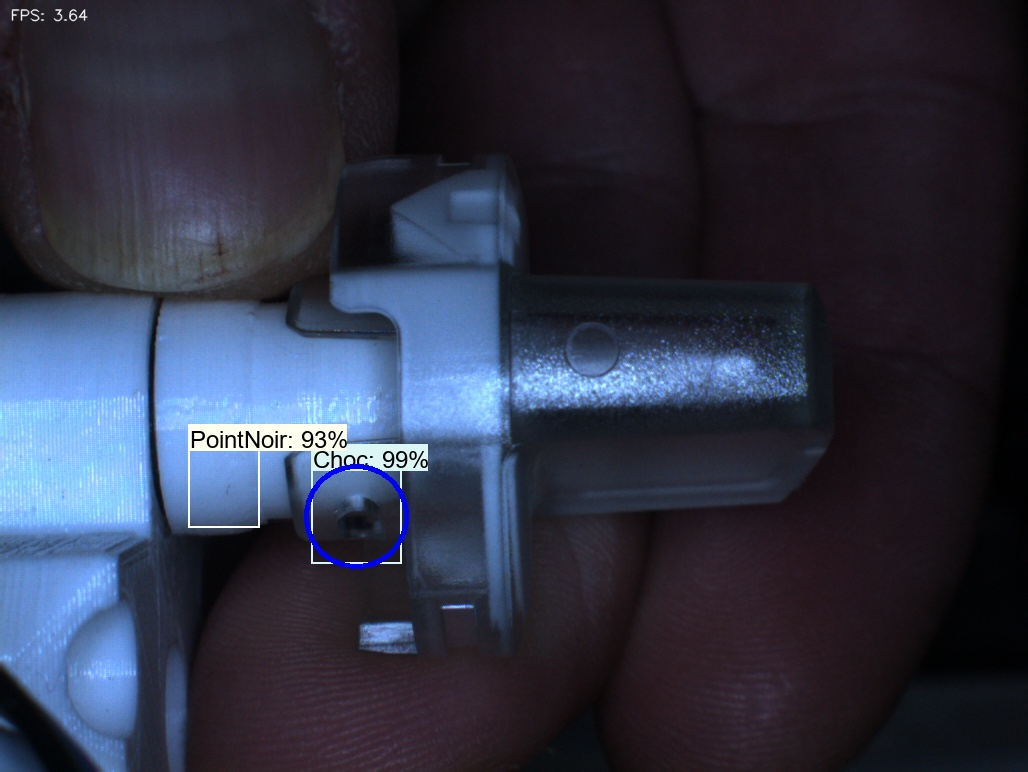DentOk: (362, 179, 440, 272)
